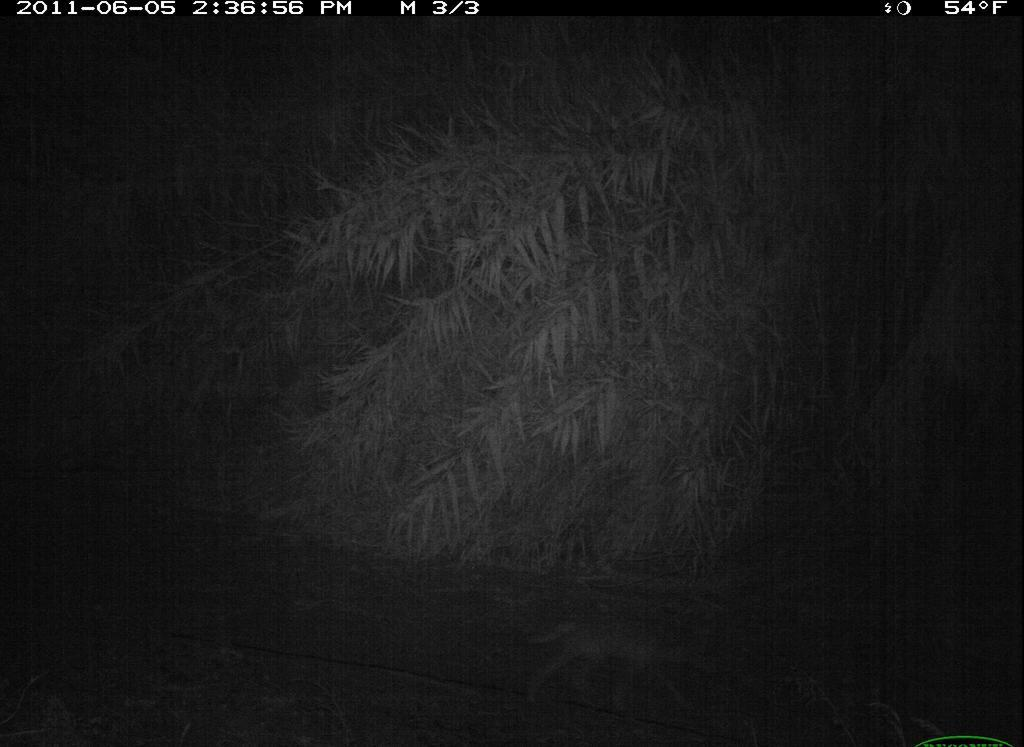coyote: (520, 612, 724, 721)
